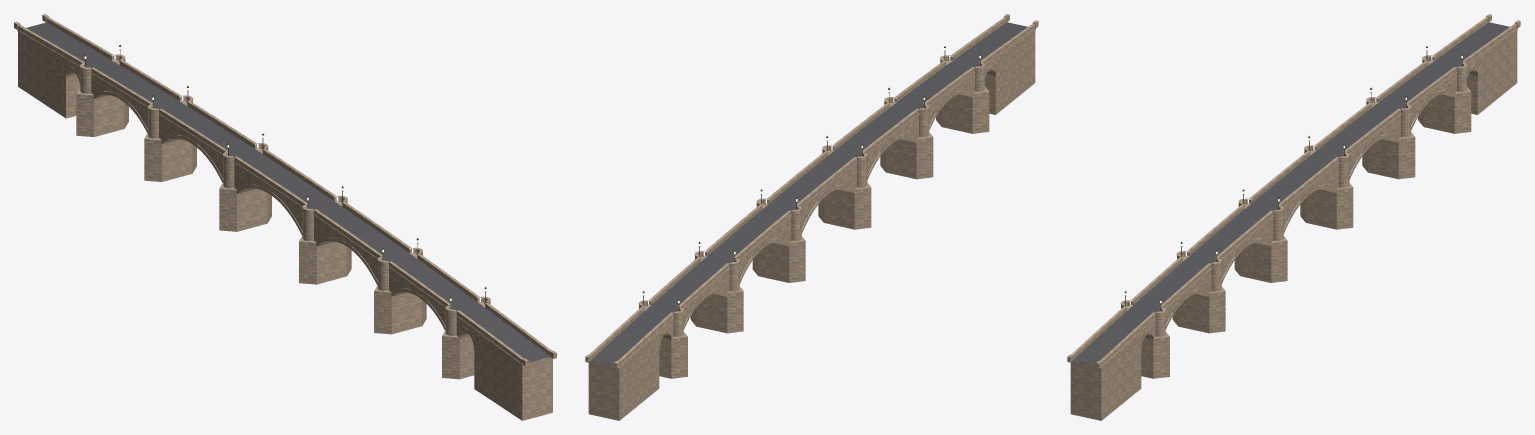
3 renders of one model, left to right at view 1: azimuth 30°, elevation 25°; view 2: azimuth 150°, elevation 25°; view 3: azimuth 330°, elevation 25°, orthographic. The views are drawn at different scales.
Parts seen in each view (by area): view 1: Bridge_Stone, Bridge_Road; view 2: Bridge_Stone, Bridge_Road; view 3: Bridge_Stone, Bridge_Road.
Part boxes in pixels (left/top/right/bottom): Bridge_Stone: left=14, top=14, right=556, bottom=420; Bridge_Road: left=26, top=22, right=550, bottom=362; Bridge_Stone: left=585, top=14, right=1038, bottom=420; Bridge_Road: left=591, top=22, right=1027, bottom=365; Bridge_Stone: left=1067, top=14, right=1520, bottom=420; Bridge_Road: left=1073, top=22, right=1509, bottom=365.
Bounding box in the file's own units: 20.54 × 21.03 × 212.
4 materials, 1 textured.
